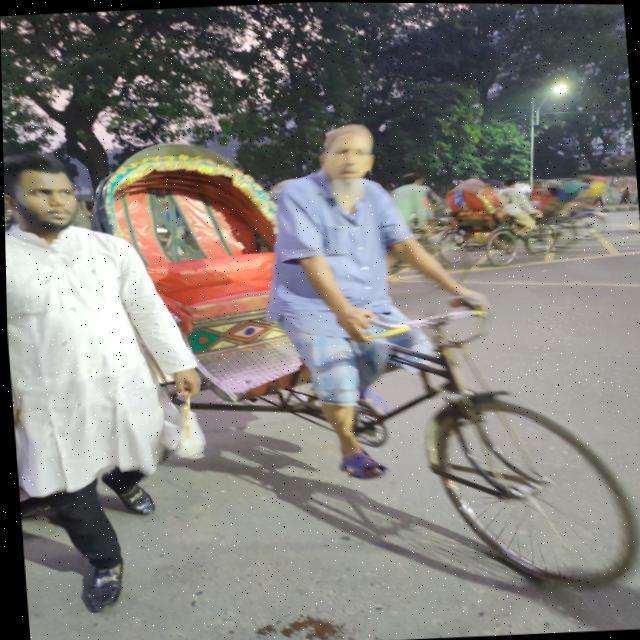rikshaw: (89, 117, 631, 640)
